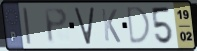5: (150, 5, 175, 46)
D: (126, 5, 152, 46)
I: (21, 6, 33, 46)
K: (100, 7, 123, 45)
P: (41, 6, 69, 45)
V: (73, 6, 96, 46)
